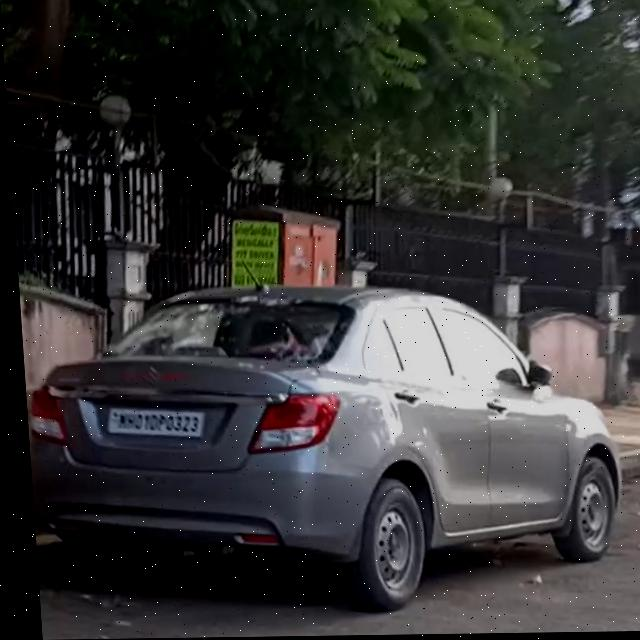plate: (99, 404, 203, 444)
